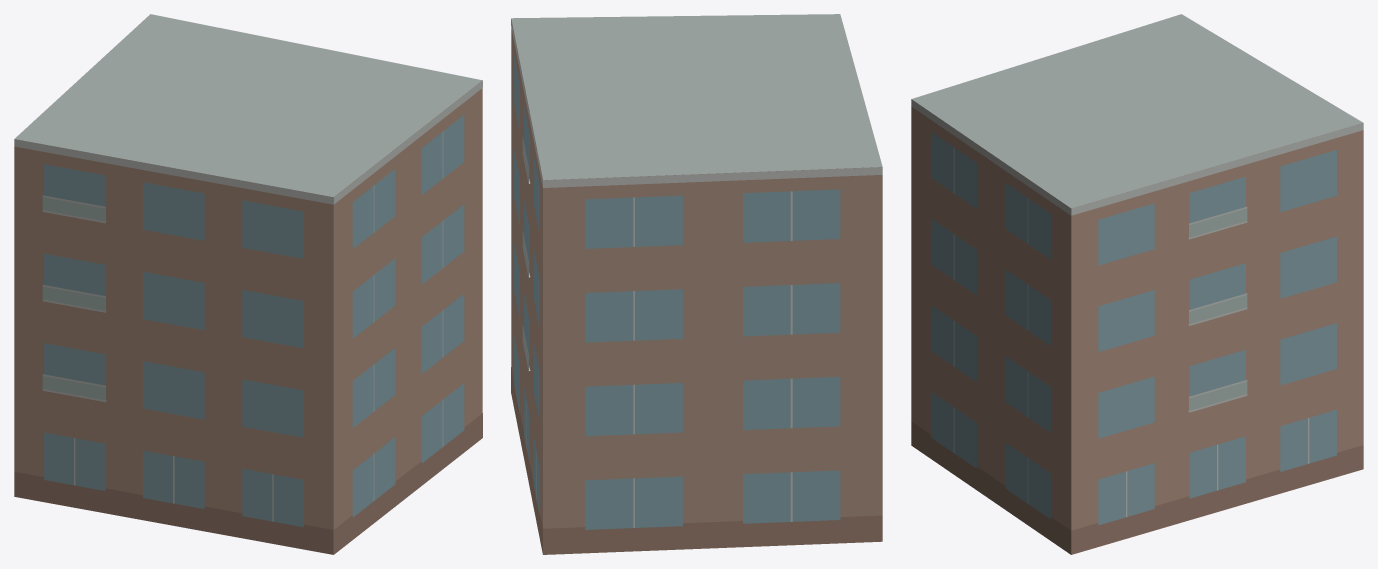
The model's file is survey-upis-32776563.glb.
3 views of the same model, side by side, from view 1: azimuth 30°, elevation 25°; view 2: azimuth 150°, elevation 25°; view 3: azimuth 270°, elevation 25° (orthographic). The views are drawn at different scales.
Visible parts, largest first — view 1: survey-upis-32776563.tmp; view 2: survey-upis-32776563.tmp; view 3: survey-upis-32776563.tmp.
Boxes of the visible parts, x1,y1,x2,y2 form: survey-upis-32776563.tmp: [14, 14, 482, 554]; survey-upis-32776563.tmp: [511, 14, 882, 554]; survey-upis-32776563.tmp: [911, 14, 1363, 554].
Size of the model in its own units: 13.98 by 11.6 by 13.73.
